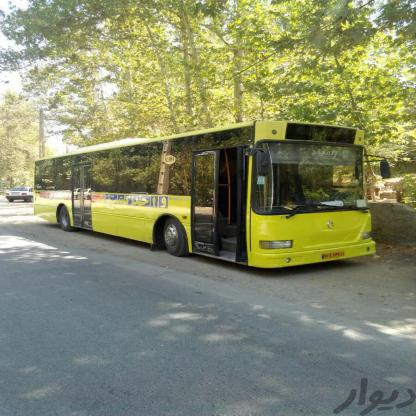Bus: (37, 105, 383, 277)
Car: (0, 184, 33, 226)
